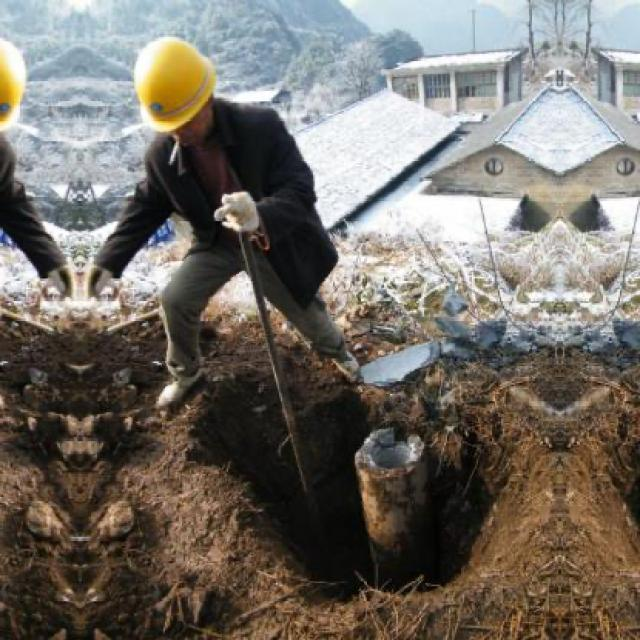2: (83, 33, 364, 404), (1, 32, 76, 405)
helmet: (128, 32, 228, 146), (1, 32, 31, 148)
